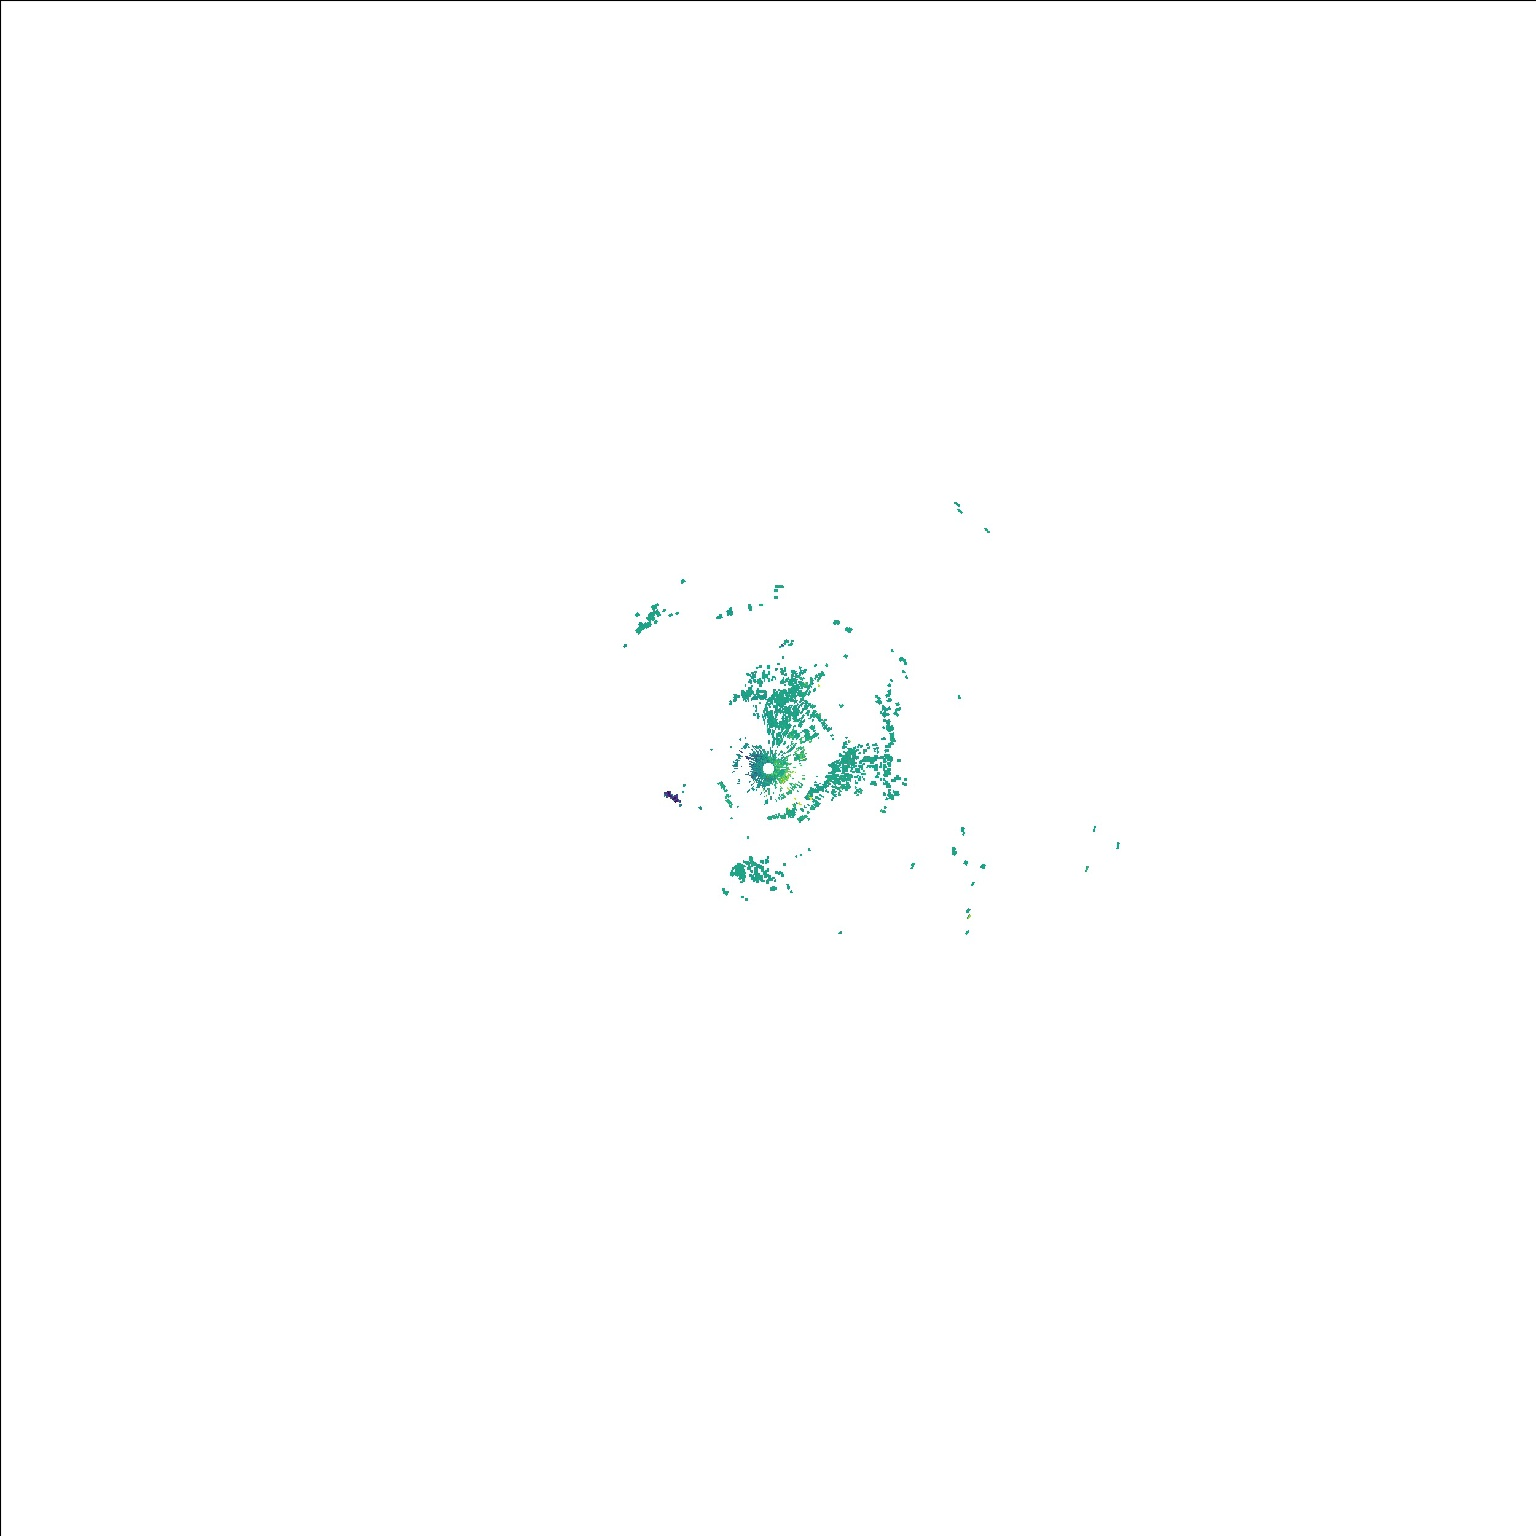fall: (663, 788, 684, 812)
